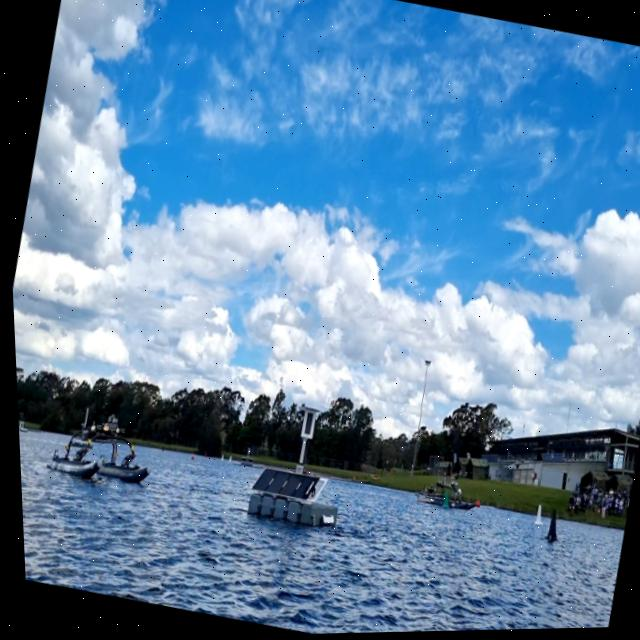led: (297, 412, 312, 438)
